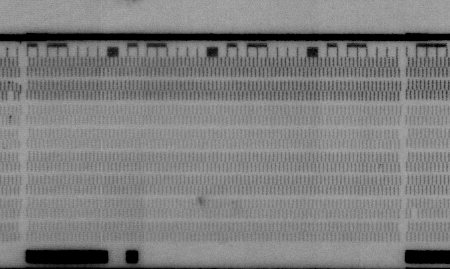Broken hole: (6, 91, 17, 102), (409, 208, 420, 219)
Oblique printing: (16, 80, 25, 95)
